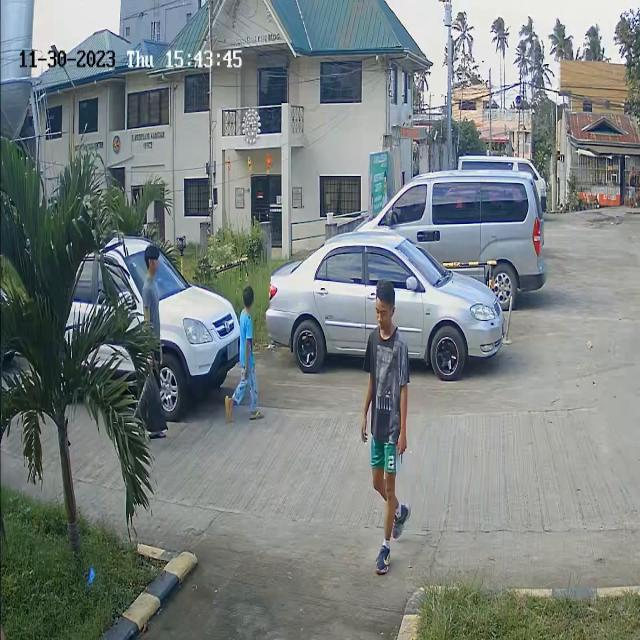person: (363, 278, 412, 572), (233, 280, 262, 427), (139, 242, 165, 370), (133, 374, 171, 434)
